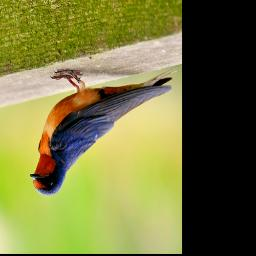Swallow: (26, 61, 173, 201)
